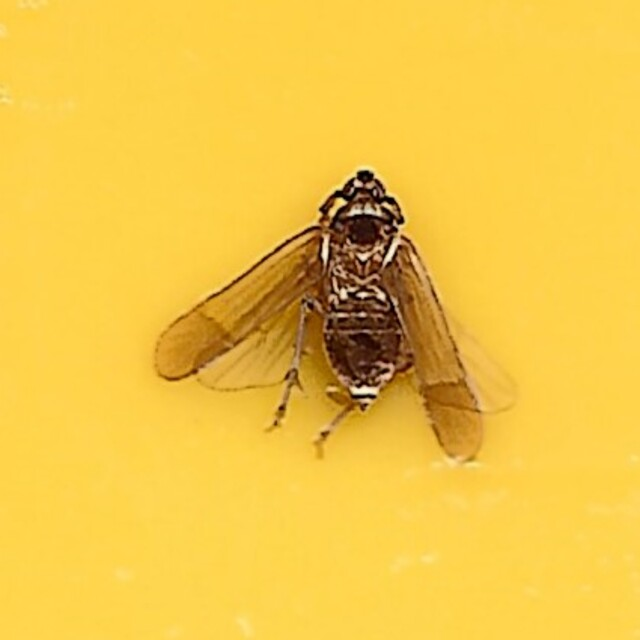Coleoptera: (151, 169, 489, 471)
